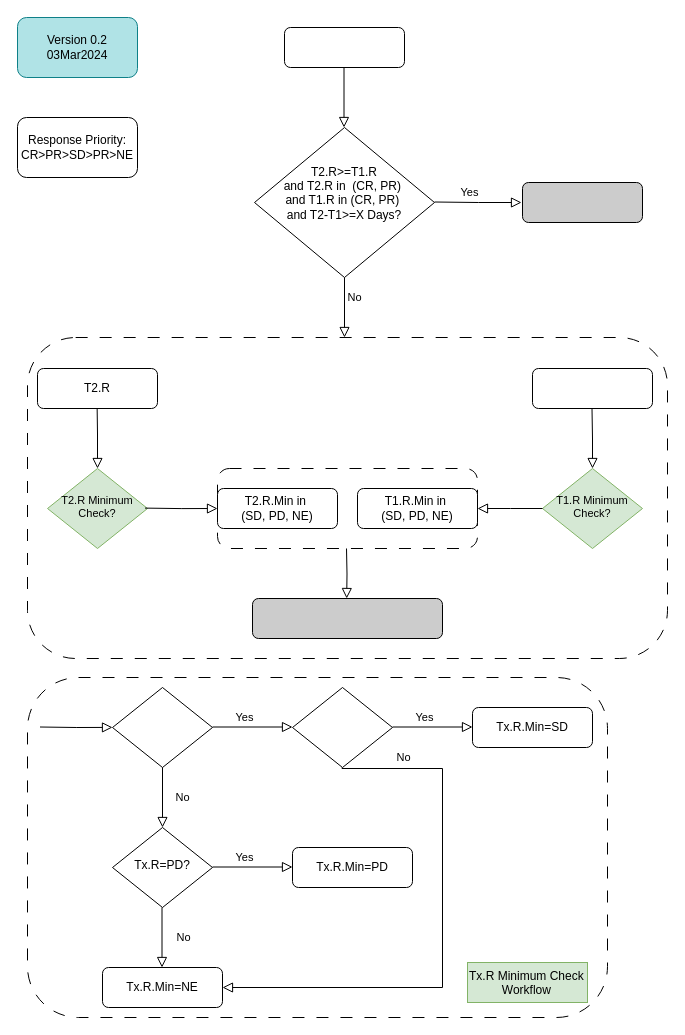
This 685x1035 diagram has some shape labels left out. Each missing label, with the box of its shape:
ADY>=X Days?: (292, 686, 392, 768)
BestResp= Max Priority(T2.R.Min,T1.R .Min ): (252, 598, 442, 638)
BestResp=T1: (522, 182, 642, 222)
Start at T2: (284, 26, 404, 68)
T1.R: (532, 368, 652, 408)
Tx.R in (CR, PR, SD)?: (112, 686, 212, 768)
